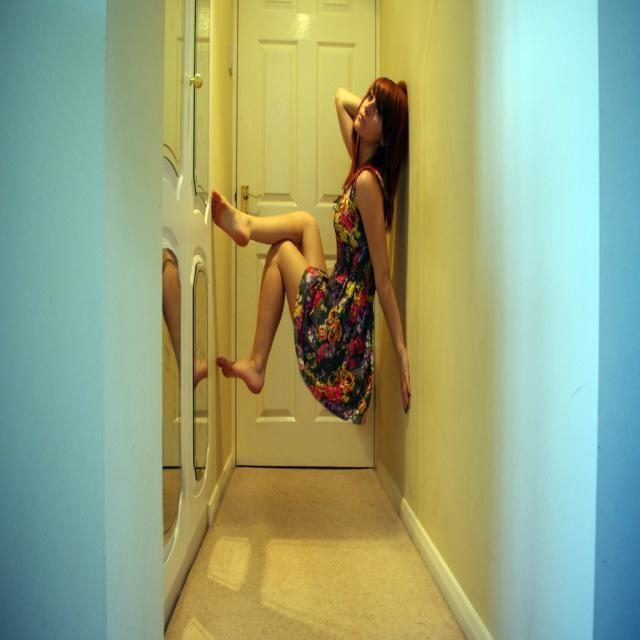door: (235, 0, 376, 469)
